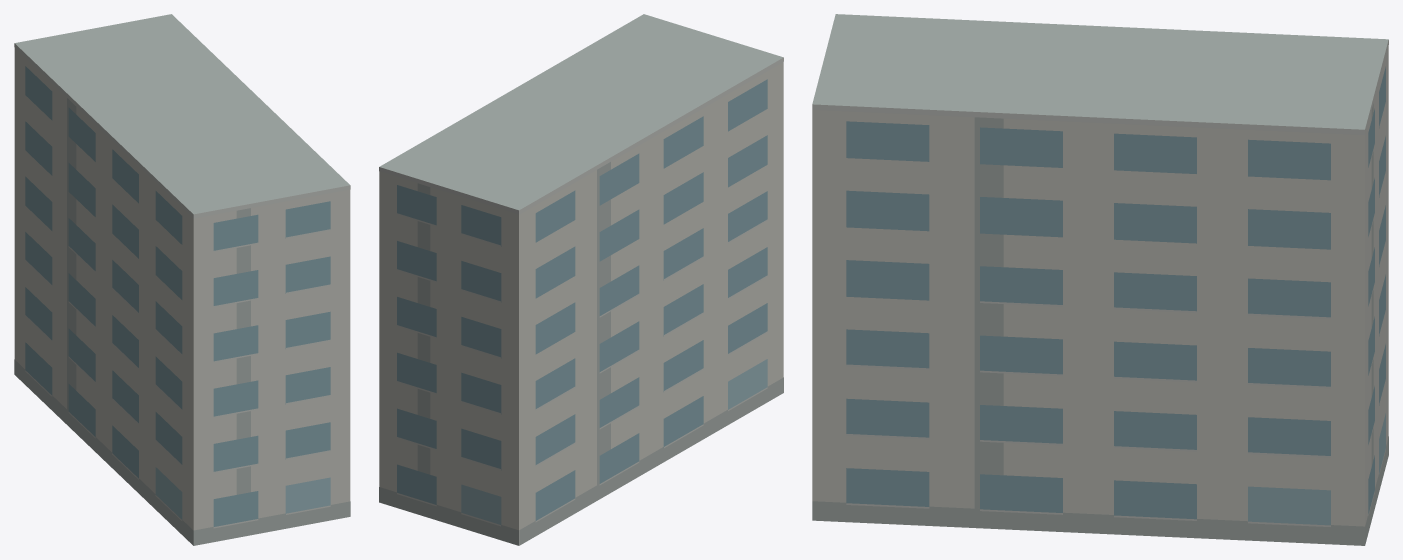
File: survey-upis-32572048.glb
3 renders of one model, left to right at view 1: azimuth 30°, elevation 25°; view 2: azimuth 150°, elevation 25°; view 3: azimuth 270°, elevation 25°, orthographic. The views are drawn at different scales.
Parts seen in each view (by area): view 1: survey-upis-32572048.tmp; view 2: survey-upis-32572048.tmp; view 3: survey-upis-32572048.tmp.
Part boxes in pixels (left/top/right/bottom): survey-upis-32572048.tmp: left=14, top=14, right=350, bottom=545; survey-upis-32572048.tmp: left=379, top=14, right=783, bottom=545; survey-upis-32572048.tmp: left=812, top=14, right=1388, bottom=545.
Bounding box in the file's own units: 11.19 × 18.75 × 23.55.
